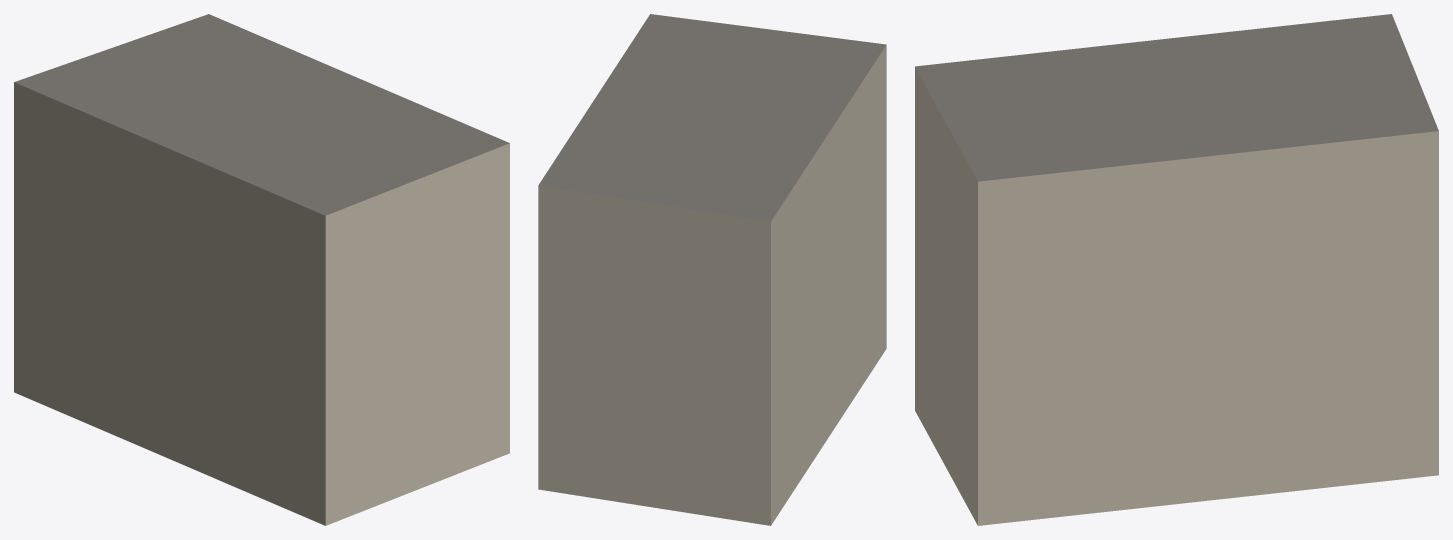
3 views of the same model, side by side, from view 1: azimuth 30°, elevation 25°; view 2: azimuth 150°, elevation 25°; view 3: azimuth 270°, elevation 25° (orthographic). The views are drawn at different scales.
Parts seen in each view (by area): view 1: HP-w380339915; view 2: HP-w380339915; view 3: HP-w380339915.
Part boxes in pixels (x1,y1,x2,y2): HP-w380339915: [14, 14, 509, 525]; HP-w380339915: [538, 14, 886, 525]; HP-w380339915: [915, 14, 1438, 525].
Bounding box in the file's own units: 18.8 × 18 × 24.82.
